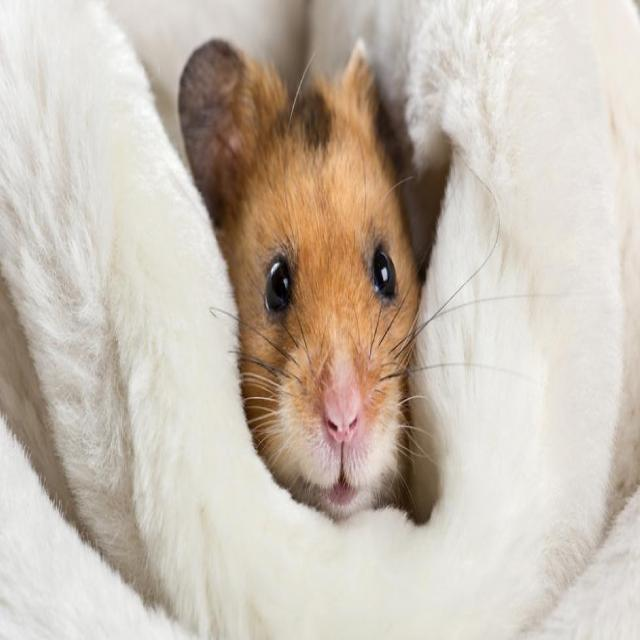hamster: (171, 25, 428, 522)
